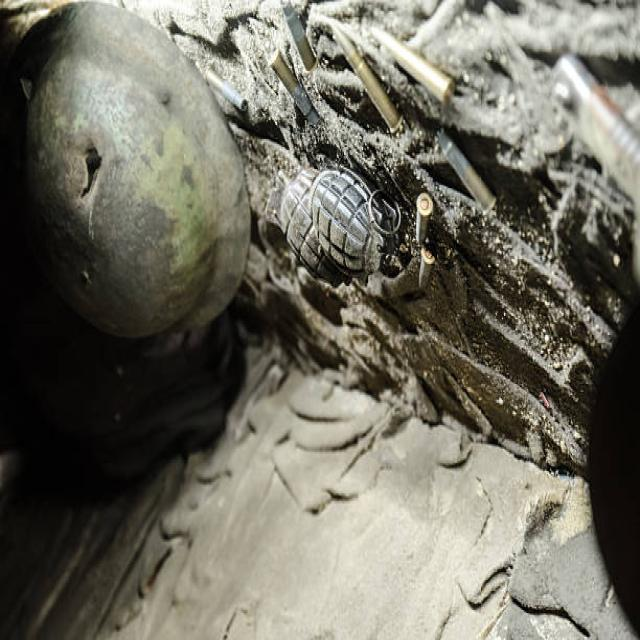grenade: (310, 166, 403, 270)
